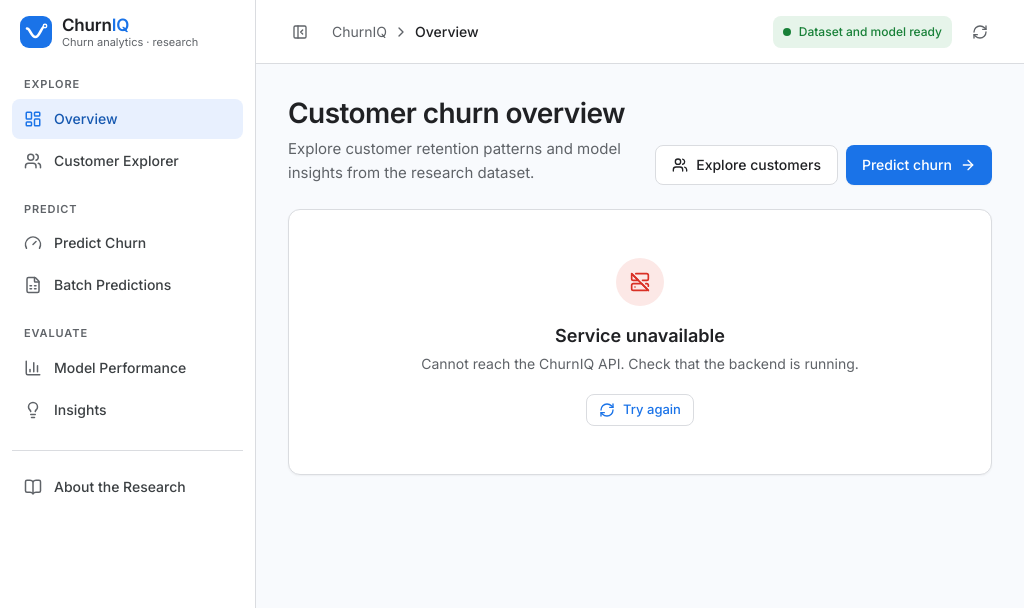
Test case: App shell and navigation › shows an error state with retry when the API is unreachable, then recovers
Expected: the heading "Service unavailable" is shown, [555,322,725,350]
Click the button "Try again": x=640, y=410 [586,394,694,426]
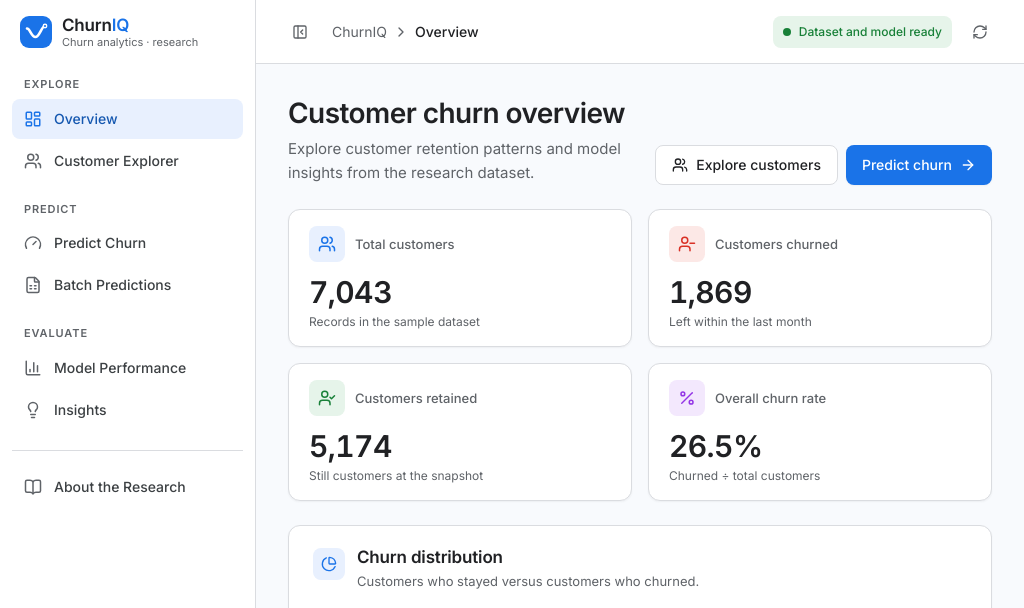
Expected: the element named "Key figures" is shown, [288,209,992,501]
